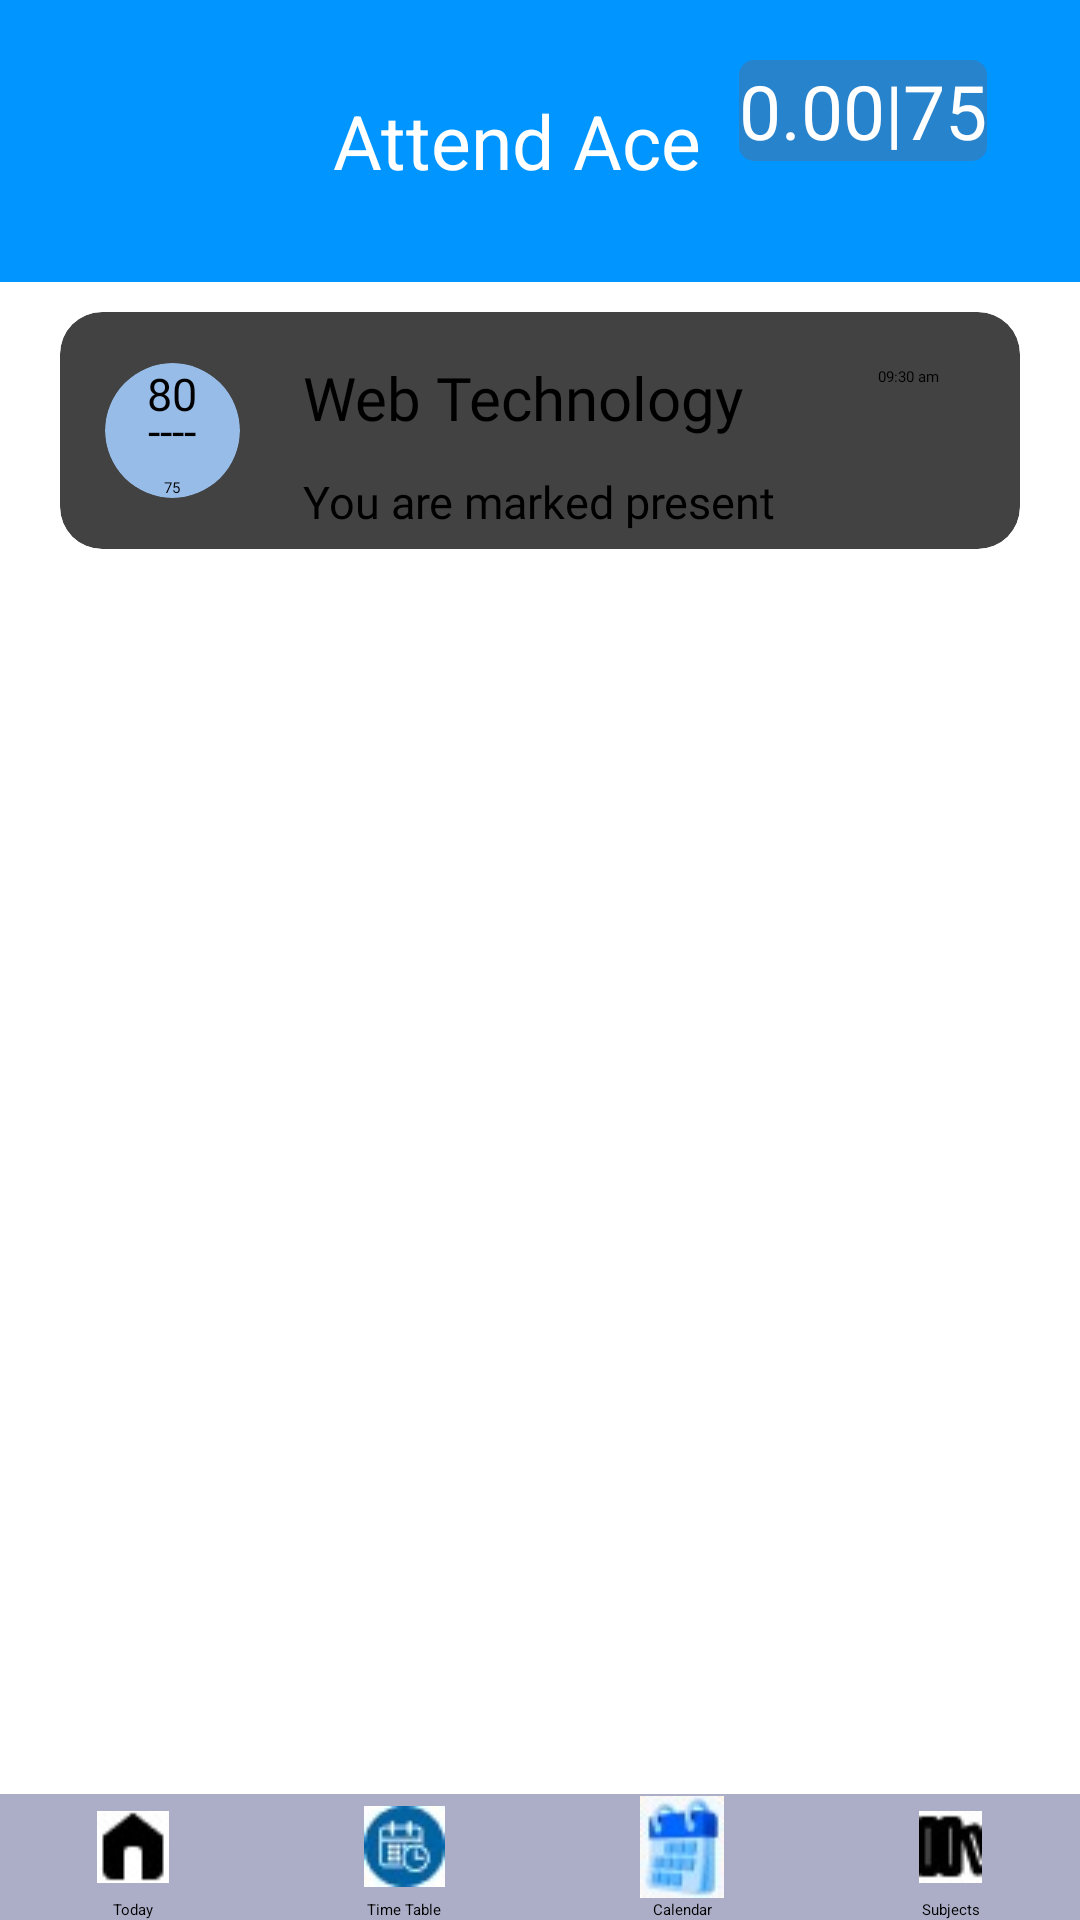

Named icons in this screenshot (1080px x 1920px) and their centers, (x,y):
home: (133,1847)
